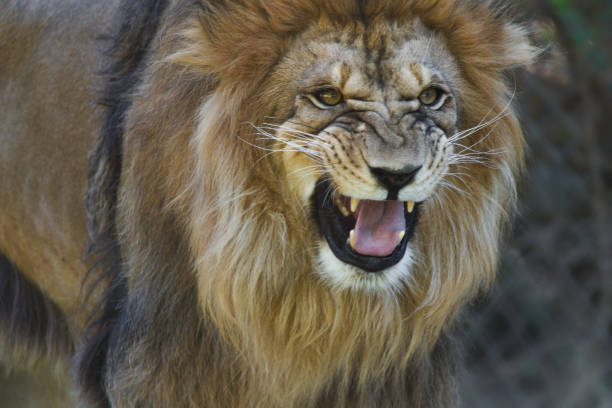lion: (109, 4, 565, 407)
